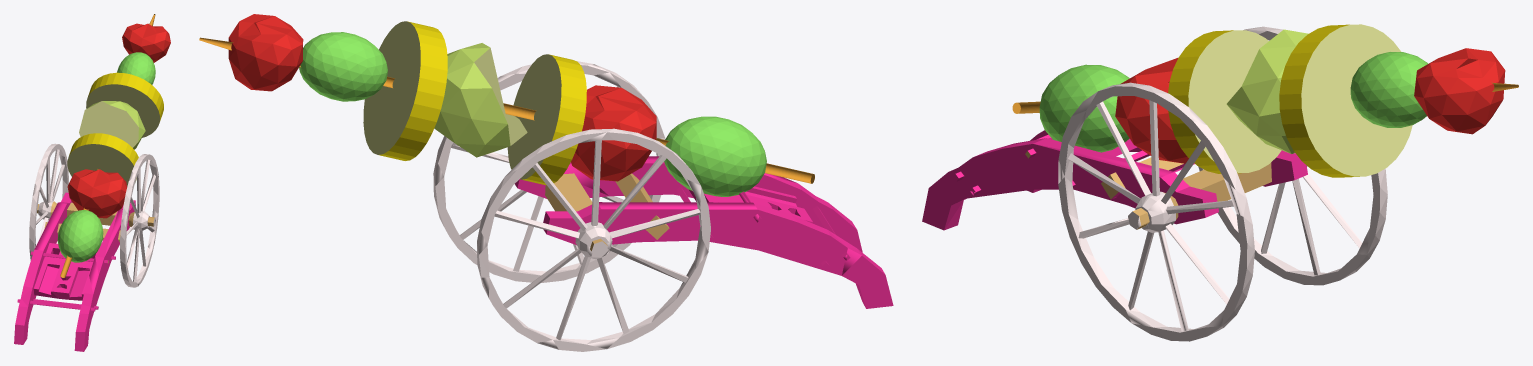
The model's file is fruitCannon.glb.
3 renders of one model, left to right at view 1: azimuth 30°, elevation 25°; view 2: azimuth 150°, elevation 25°; view 3: azimuth 270°, elevation 25°, orthographic. The views are drawn at different scales.
Visible parts, largest first — view 1: Cylinder; view 2: Cylinder; view 3: Cylinder.
Boxes of the visible parts, x1,y1,x2,y2 form: Cylinder: (14, 14, 170, 351); Cylinder: (199, 14, 893, 351); Cylinder: (922, 24, 1518, 341).
Size of the model in its own units: 7.99 by 5.19 by 7.81.
